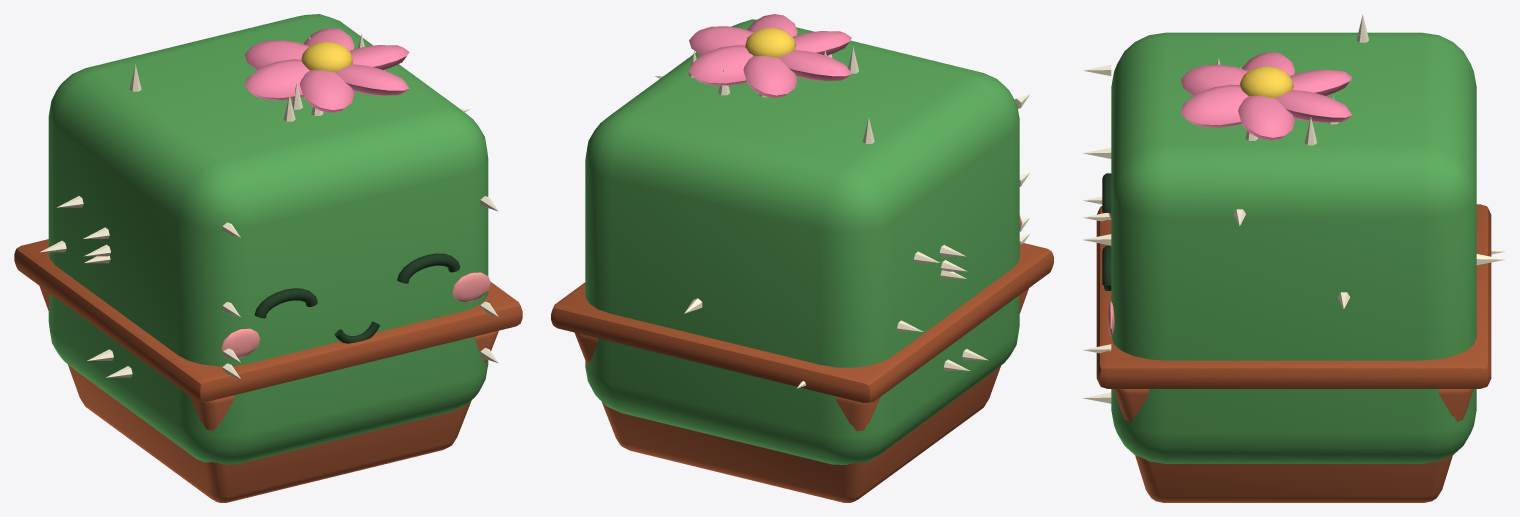
The model's file is Cactus.glb.
3 views of the same model, side by side, from view 1: azimuth 30°, elevation 25°; view 2: azimuth 150°, elevation 25°; view 3: azimuth 270°, elevation 25° (orthographic). The views are drawn at different scales.
Parts seen in each view (by area): view 1: Cactus; view 2: Cactus; view 3: Cactus.
Part boxes in pixels (box(x1,y1,x2,y2)): Cactus: box(14, 14, 522, 502); Cactus: box(551, 14, 1053, 502); Cactus: box(1082, 14, 1504, 502).
Size of the model in its own units: 2.32 by 2.42 by 2.32.
1 material, 1 textured.
